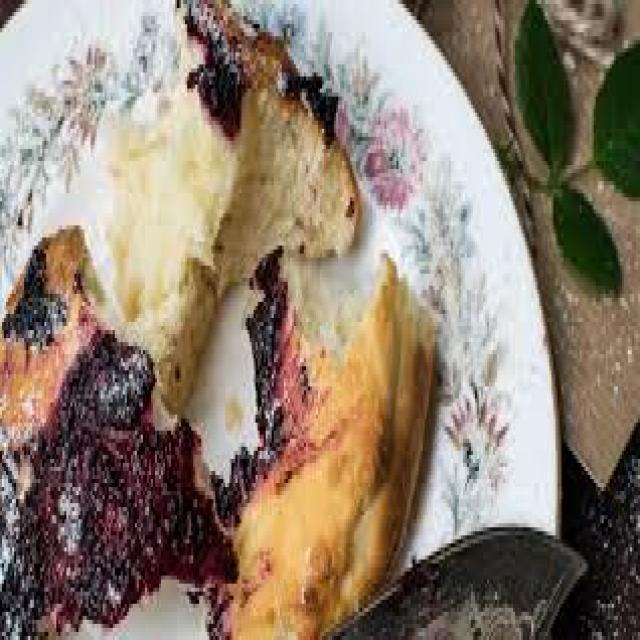organic waste: (89, 0, 356, 415), (0, 217, 231, 635), (205, 254, 437, 636), (509, 0, 570, 169), (592, 36, 638, 201), (553, 173, 620, 286)
